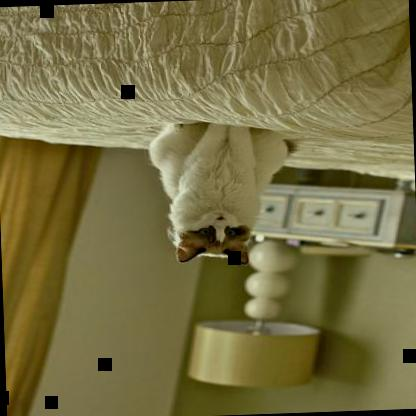cat: (148, 118, 292, 267)
